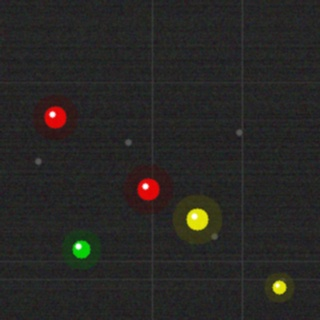green_normal: (70, 238, 92, 260)
red_fault: (135, 176, 161, 202), (42, 104, 68, 130)
yellow_warning: (184, 206, 210, 232), (270, 278, 288, 296)
